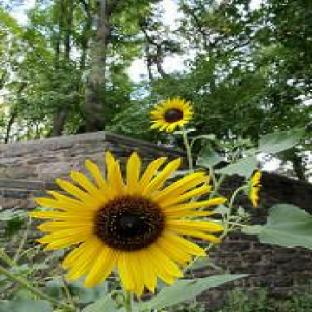sunflower: (26, 151, 227, 312)
